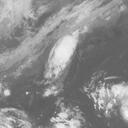cyclone: (41, 32, 79, 91)
